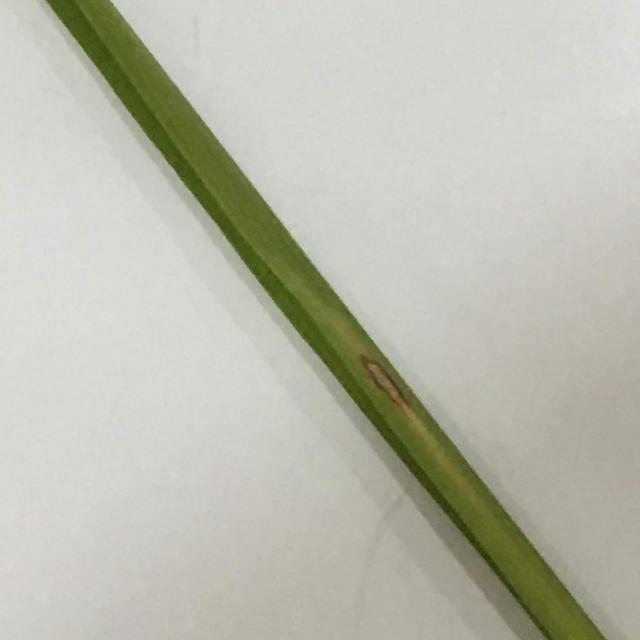Leaf blast: (43, 0, 608, 640)
